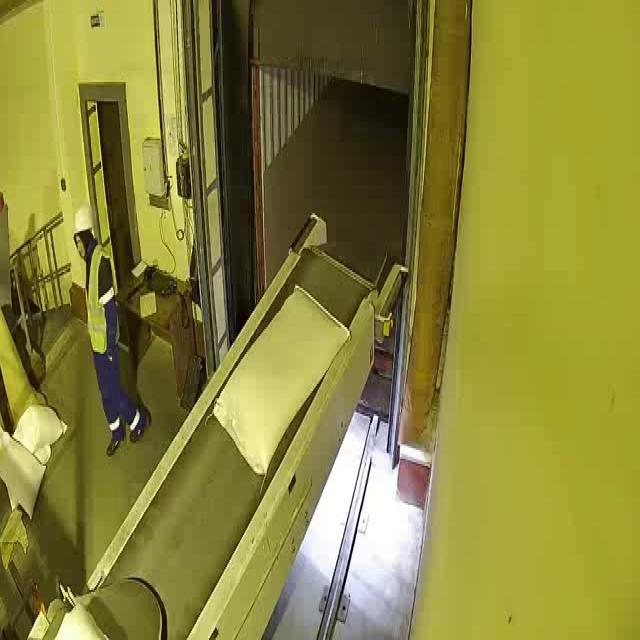bag: (209, 289, 350, 475), (51, 595, 116, 640)
